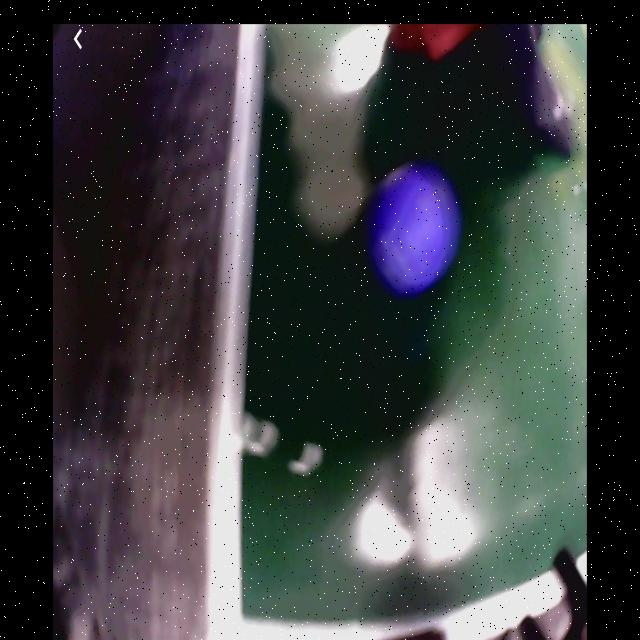ball: (371, 160, 461, 298)
